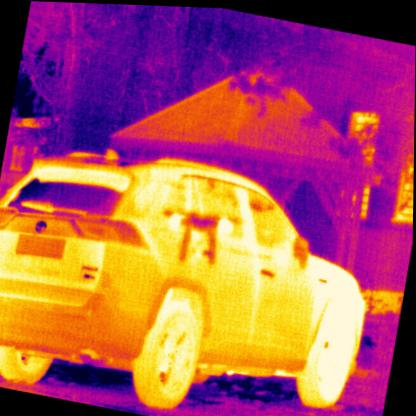drone: (162, 205, 235, 268)
